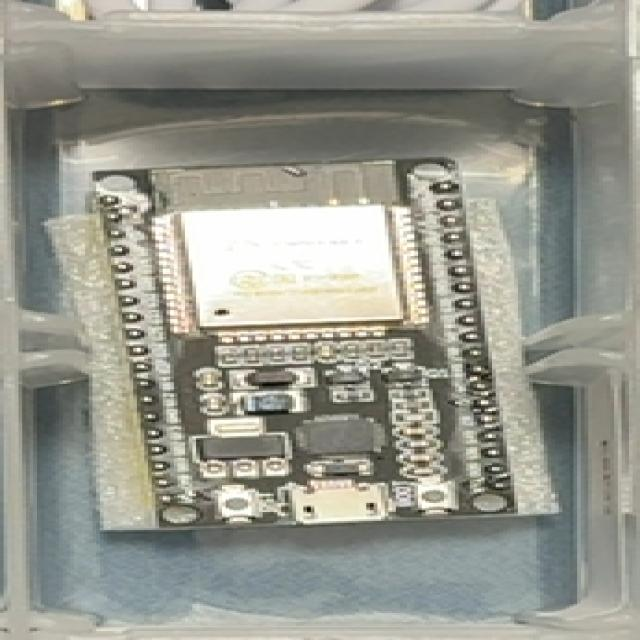ESP32: (83, 151, 520, 540)
